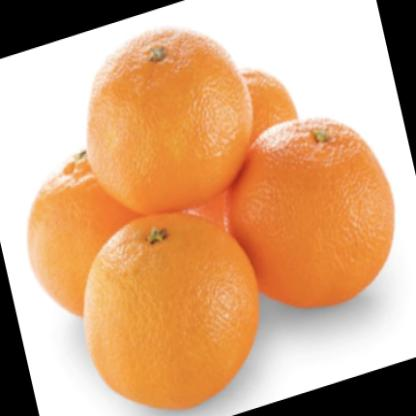fresh: (31, 33, 398, 409)
